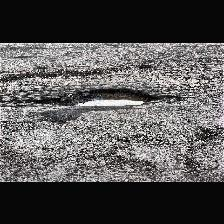pothole: (32, 85, 158, 107)
